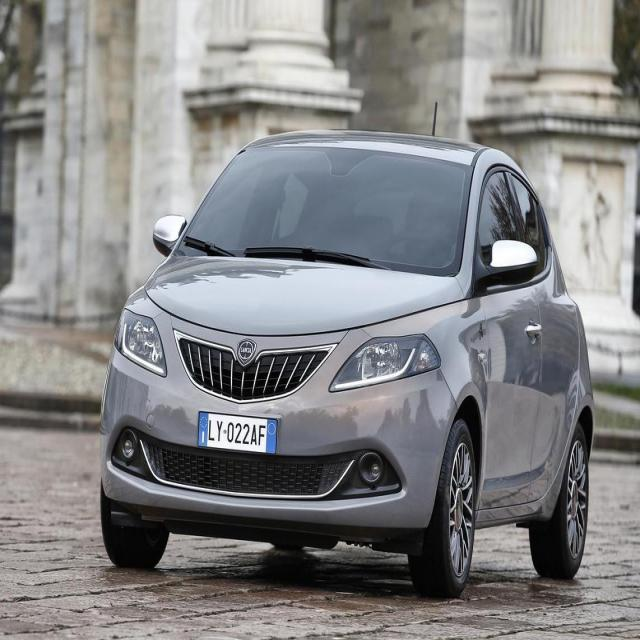yolov7-seg-car: (99, 101, 596, 598)
